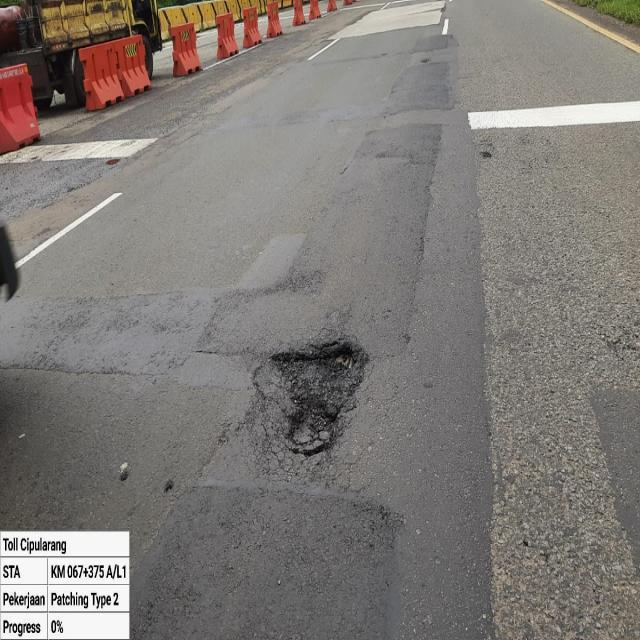Buraco: (265, 332, 374, 462), (104, 157, 123, 168), (418, 57, 433, 65)
